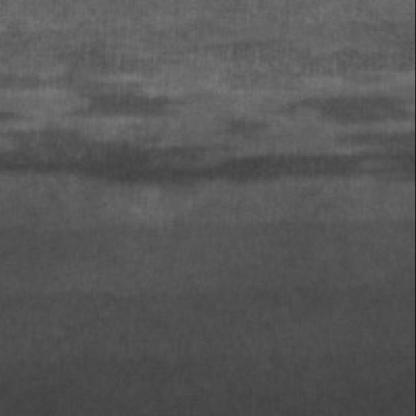inclusion: (6, 75, 416, 189)
